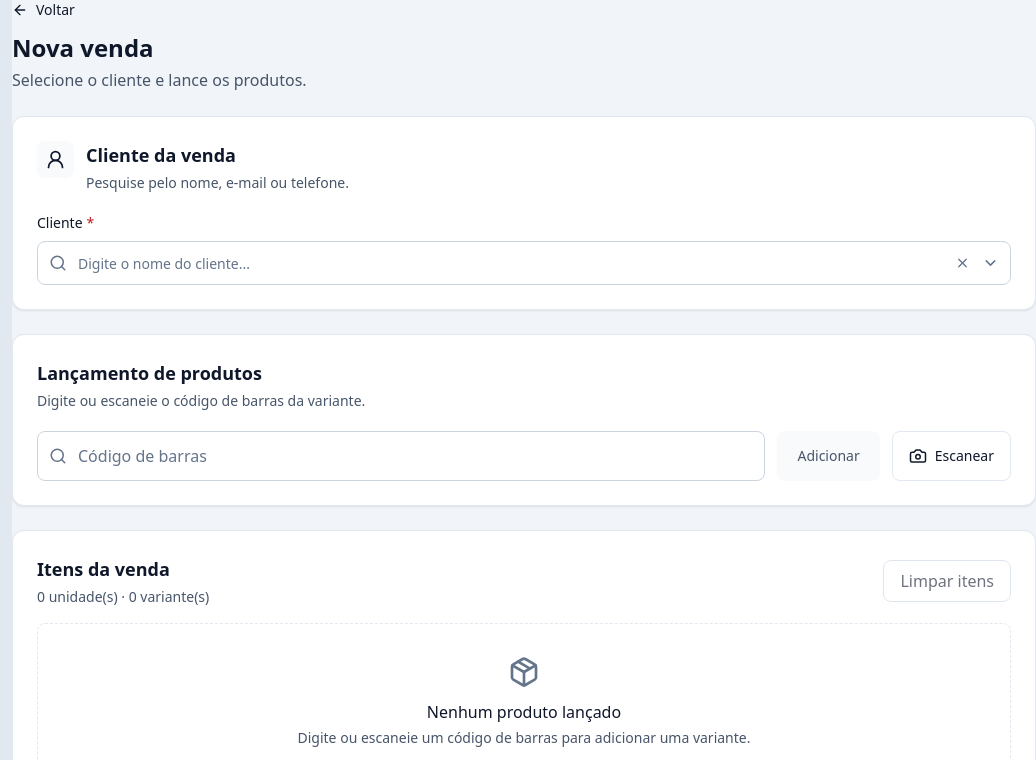
Test case: SaleCreatePage › campo de quantidade pode ser apagado e valida no envio
Type "Mar" into the dropdown with placeholder "Digite o nome do cliente..." at x=524, y=263, box x1=37 y1=241 x2=1011 y2=285
(page scrolled)
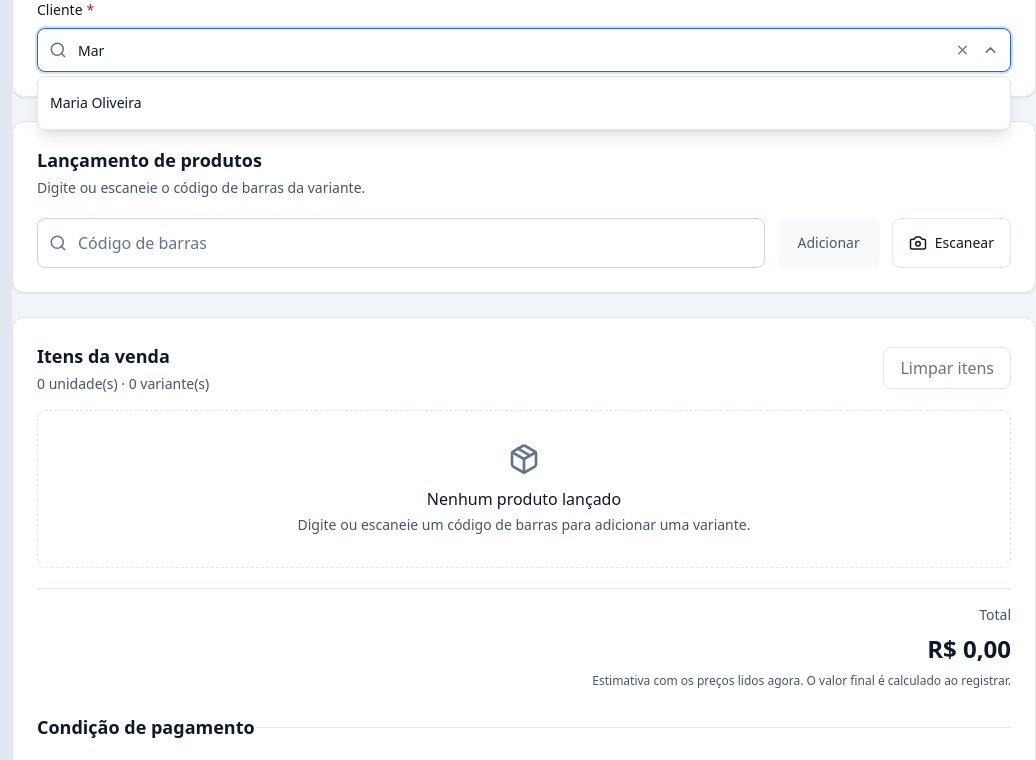
Click the button "Maria Oliveira" at x=96, y=102, box x1=38 y1=81 x2=1010 y2=125
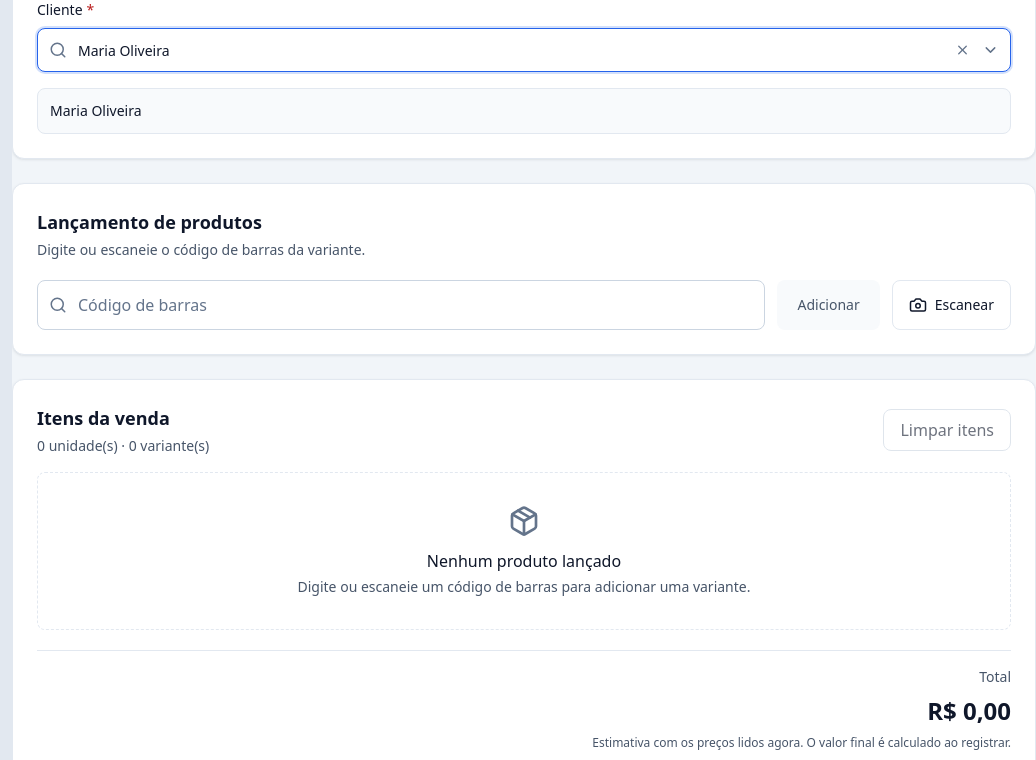
Type "111" into the field named "Código de barras do produto" at x=401, y=305, box x1=37 y1=280 x2=766 y2=330
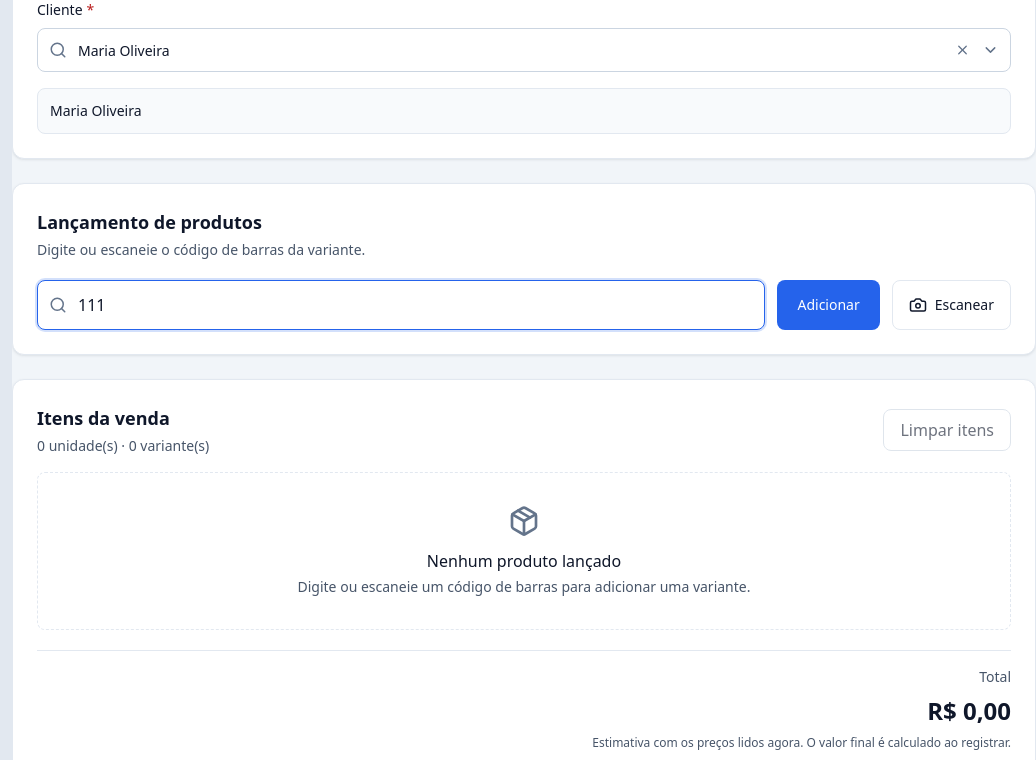
Click the button "Adicionar" at x=829, y=305, box x1=778 y1=280 x2=880 y2=330
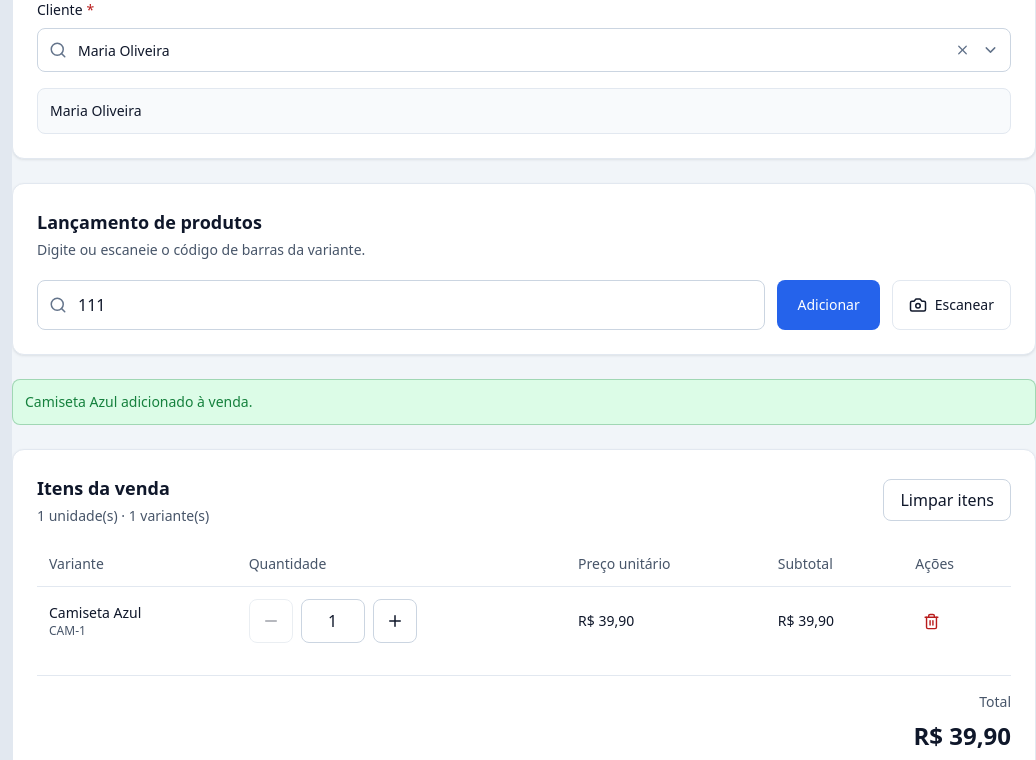
Clear the field named "Quantidade de Camiseta Azul" at x=333, y=621, box x1=301 y1=599 x2=365 y2=643
(page scrolled)
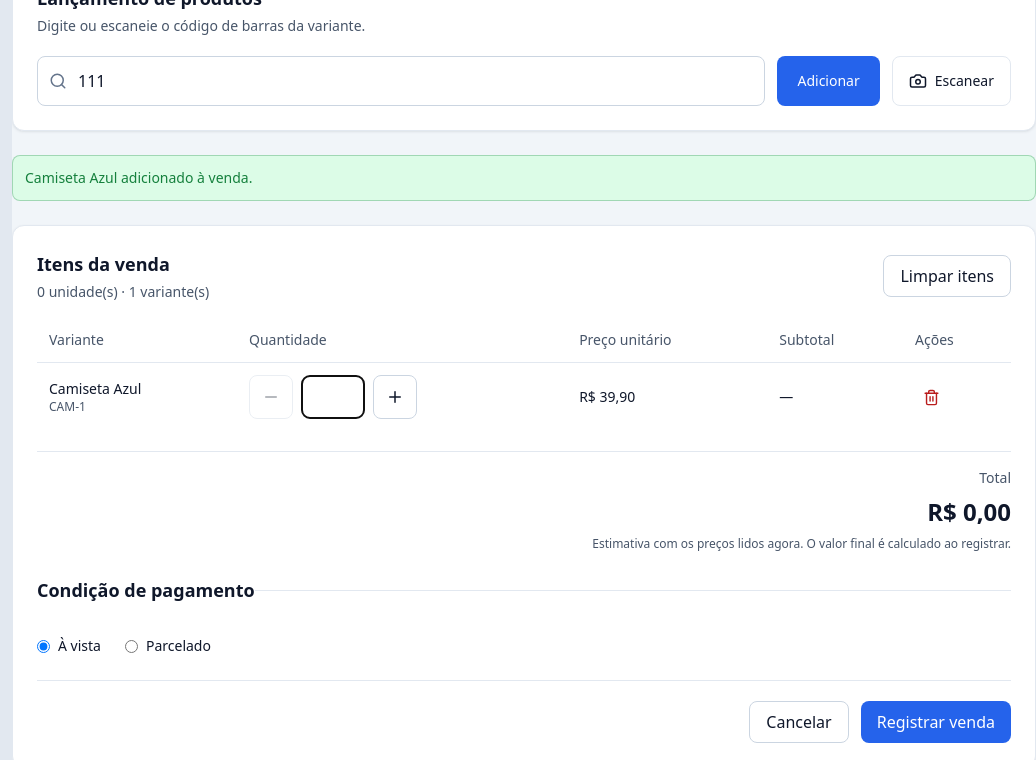
Click the button "Registrar venda" at x=936, y=722, box x1=861 y1=701 x2=1011 y2=743
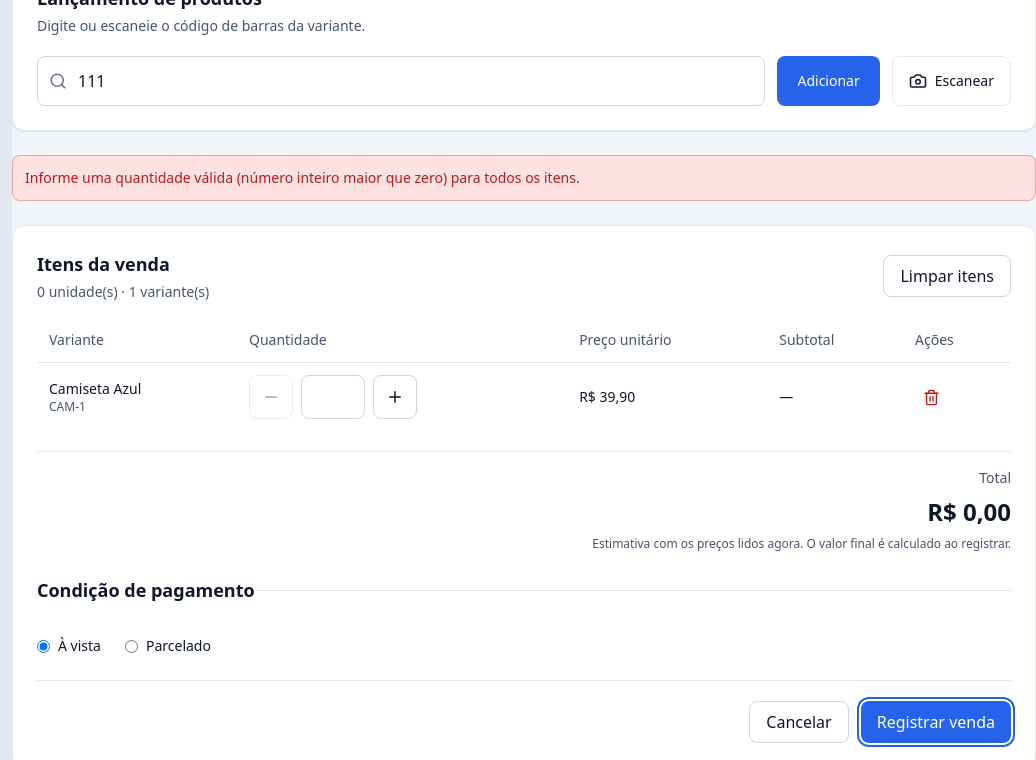
expect the text "quantidade válida" is shown: met, box x1=25 y1=168 x2=580 y2=187
